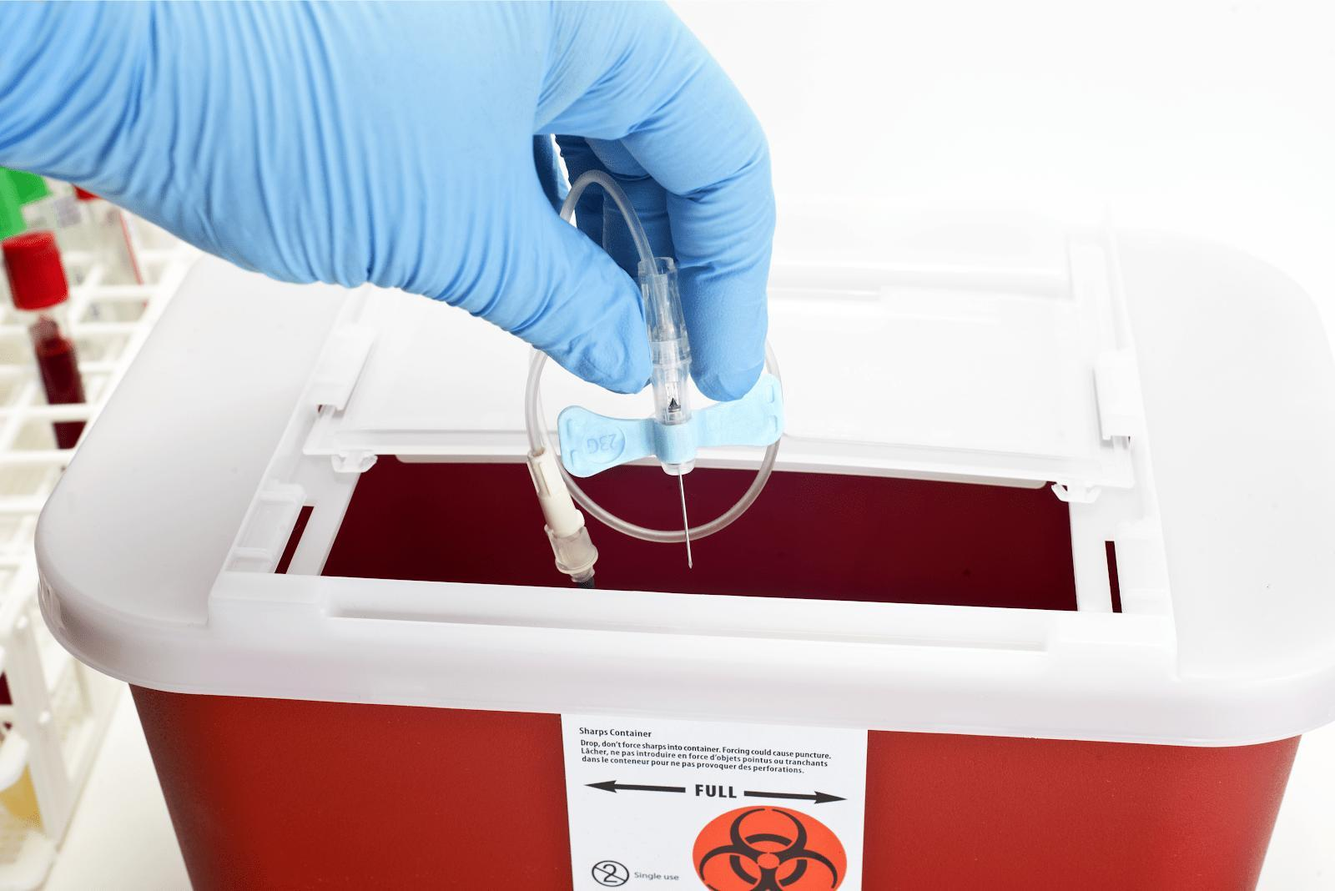Glove: (0, 3, 773, 398)
Iv_Bottle: (3, 230, 84, 404), (58, 185, 142, 283)
Syringe: (638, 257, 690, 438)
